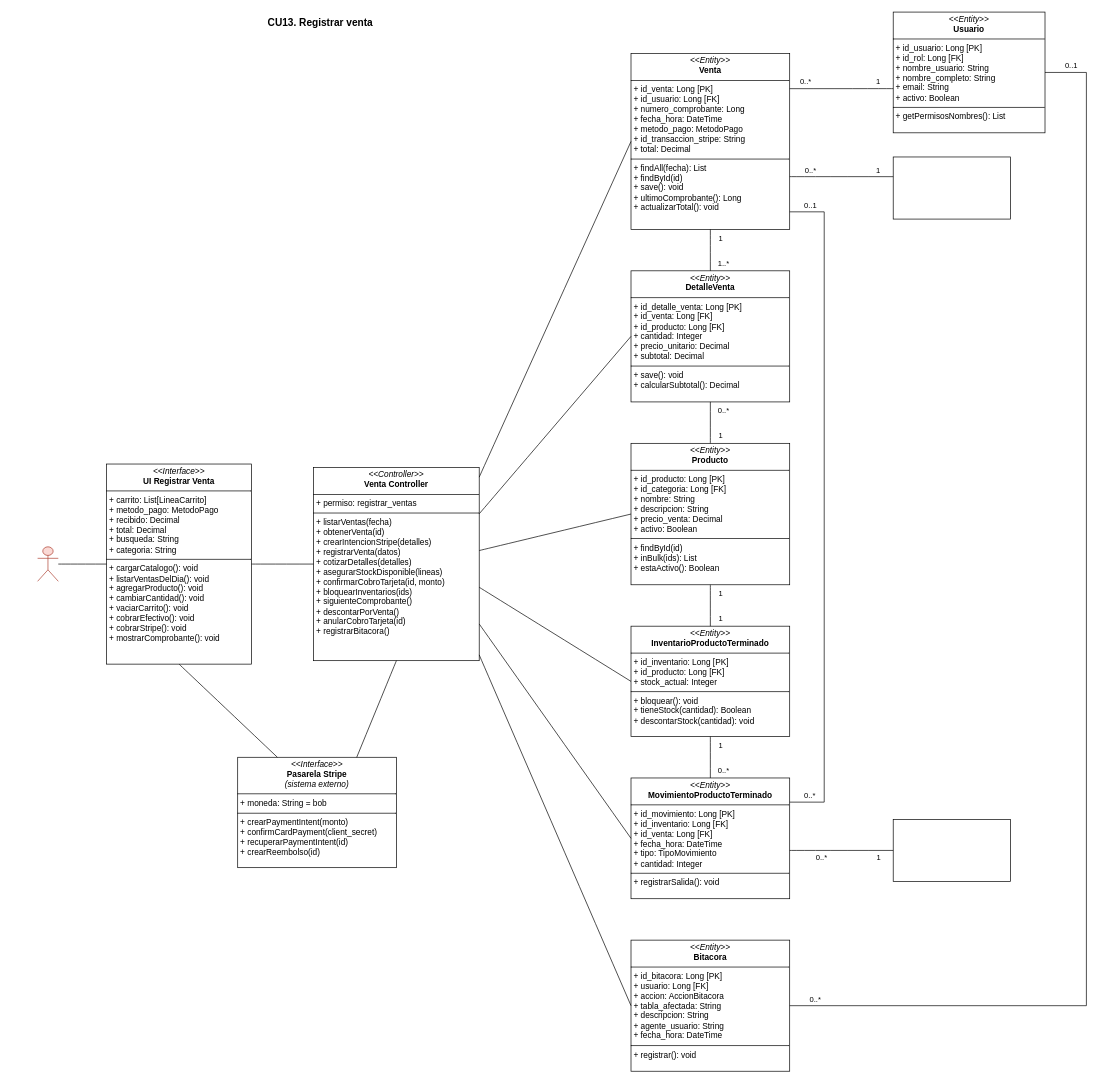
Image size: 1099x1083. Some labels were removed from this diagram. The shapes that lost their labels are listed below. From the top down, each one's box as (x1, y1, x2, y2) in pixels, then its label:
(893, 156, 1011, 219): <<Enum>> MetodoPago + efectivo + stripe
(37, 546, 58, 581): Personal de Ventas
(893, 819, 1011, 881): <<Enum>> TipoMovimiento + entrada + salida
